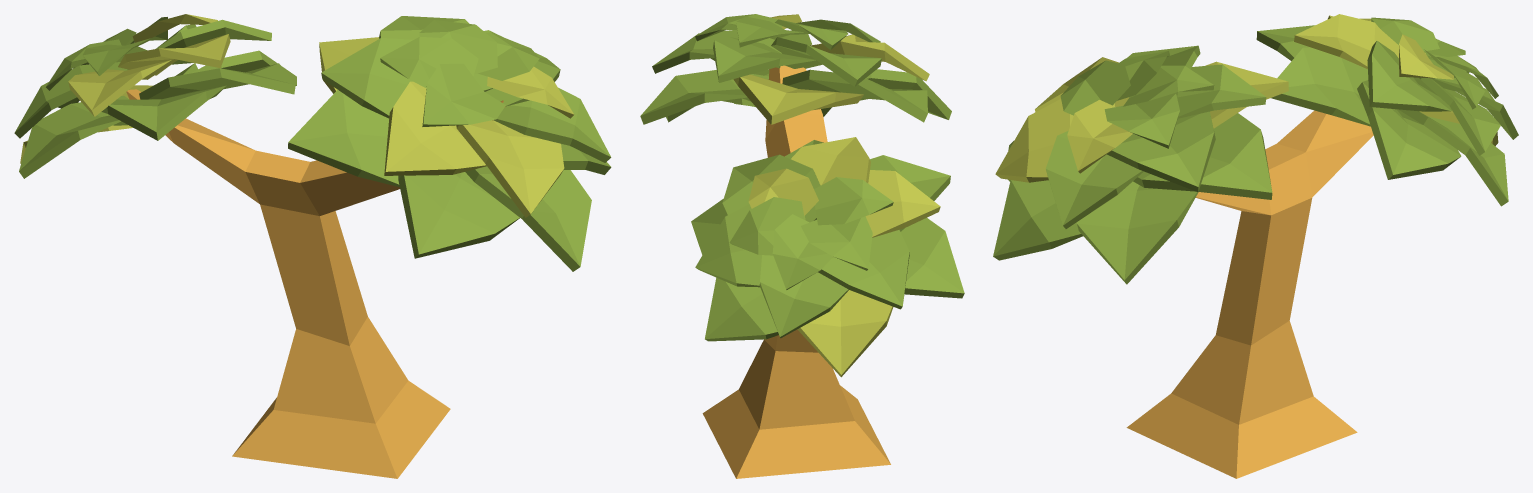
Rendered from TreeFruitL2.fbx.
3 renders of one model, left to right at view 1: azimuth 30°, elevation 25°; view 2: azimuth 150°, elevation 25°; view 3: azimuth 270°, elevation 25°, orthographic. The views are drawn at different scales.
Visible parts, largest first — view 1: Sphere.002; view 2: Sphere.002; view 3: Sphere.002.
Part boxes in pixels (<box>): Sphere.002: <box>14,14,611,478</box>; Sphere.002: <box>640,14,964,478</box>; Sphere.002: <box>993,14,1518,478</box>.
Bounding box in the file's own units: 625 × 539 × 656.
